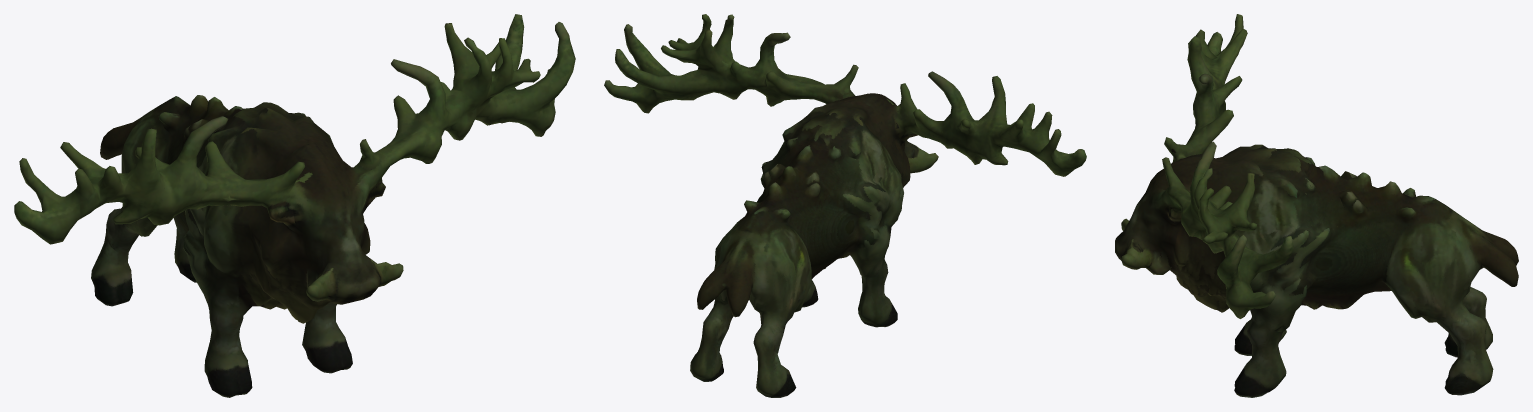
File: ghaltrek_v1.glb
3 views of the same model, side by side, from view 1: azimuth 30°, elevation 25°; view 2: azimuth 150°, elevation 25°; view 3: azimuth 270°, elevation 25° (orthographic). The views are drawn at different scales.
Visible parts, largest first — view 1: ghaltrek-m0q-8000; view 2: ghaltrek-m0q-8000; view 3: ghaltrek-m0q-8000.
Part boxes in pixels (box(x1,y1,x2,y2)): ghaltrek-m0q-8000: box(14, 14, 575, 397); ghaltrek-m0q-8000: box(604, 14, 1086, 397); ghaltrek-m0q-8000: box(1115, 14, 1518, 397).
Bounding box in the file's own units: 0.9999 × 0.5304 × 0.7139.
Materials: 1 (1 with a texture image).
